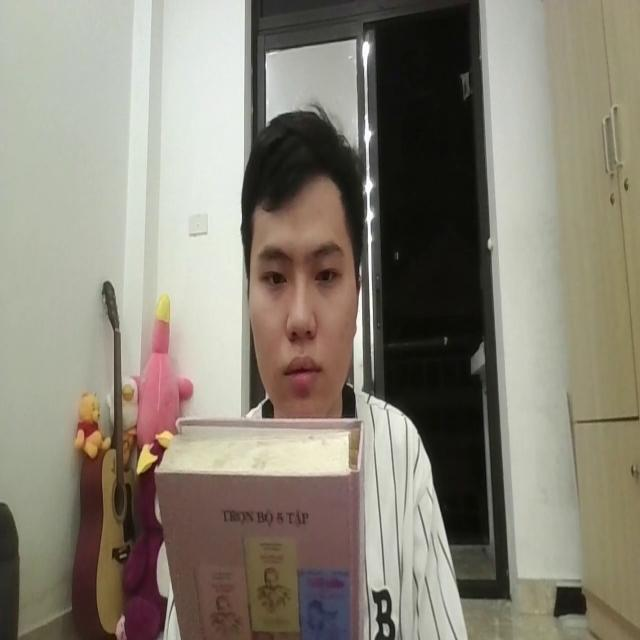book: (160, 395, 365, 640)
student: (230, 104, 469, 640)
